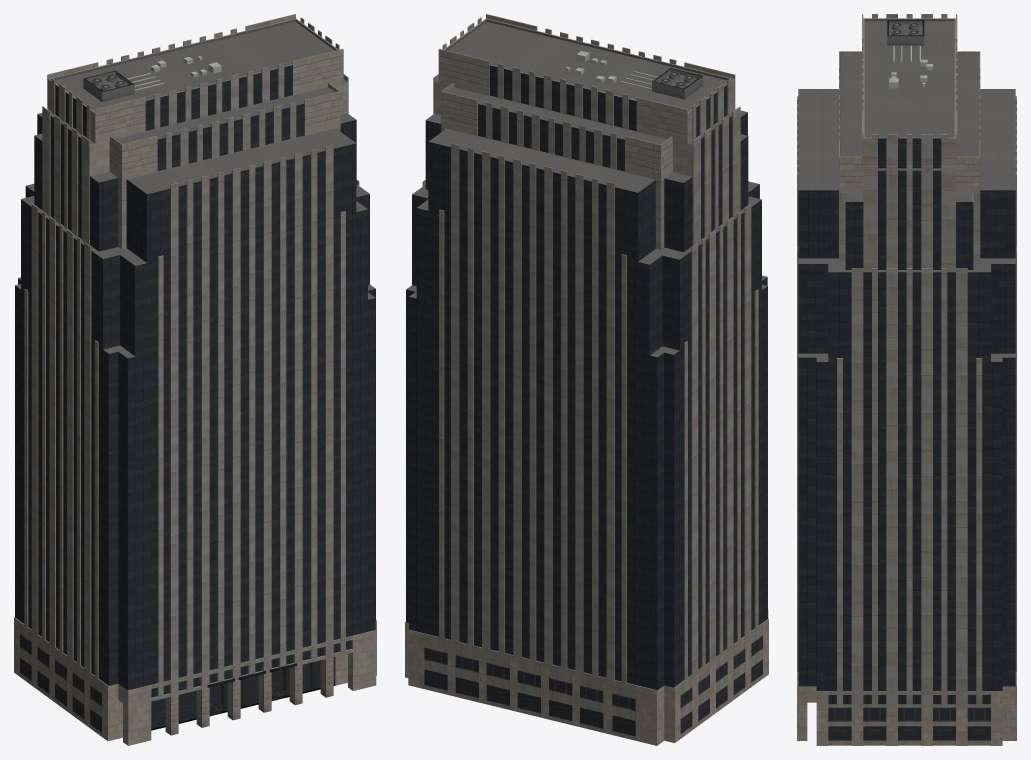
The model's file is lasalle_plaza.glb.
3 renders of one model, left to right at view 1: azimuth 30°, elevation 25°; view 2: azimuth 150°, elevation 25°; view 3: azimuth 270°, elevation 25°, orthographic.
Parts seen in each view (by area): view 1: skfb_offset; view 2: skfb_offset; view 3: skfb_offset.
Part boxes in pixels (x1=…): skfb_offset: x1=14, y1=14, x2=376, y2=745; skfb_offset: x1=405, y1=14, x2=768, y2=745; skfb_offset: x1=797, y1=14, x2=1016, y2=745.
Bounding box in the file's own units: 5600 × 12247 × 4000.
Materials: 1 (1 with a texture image).
